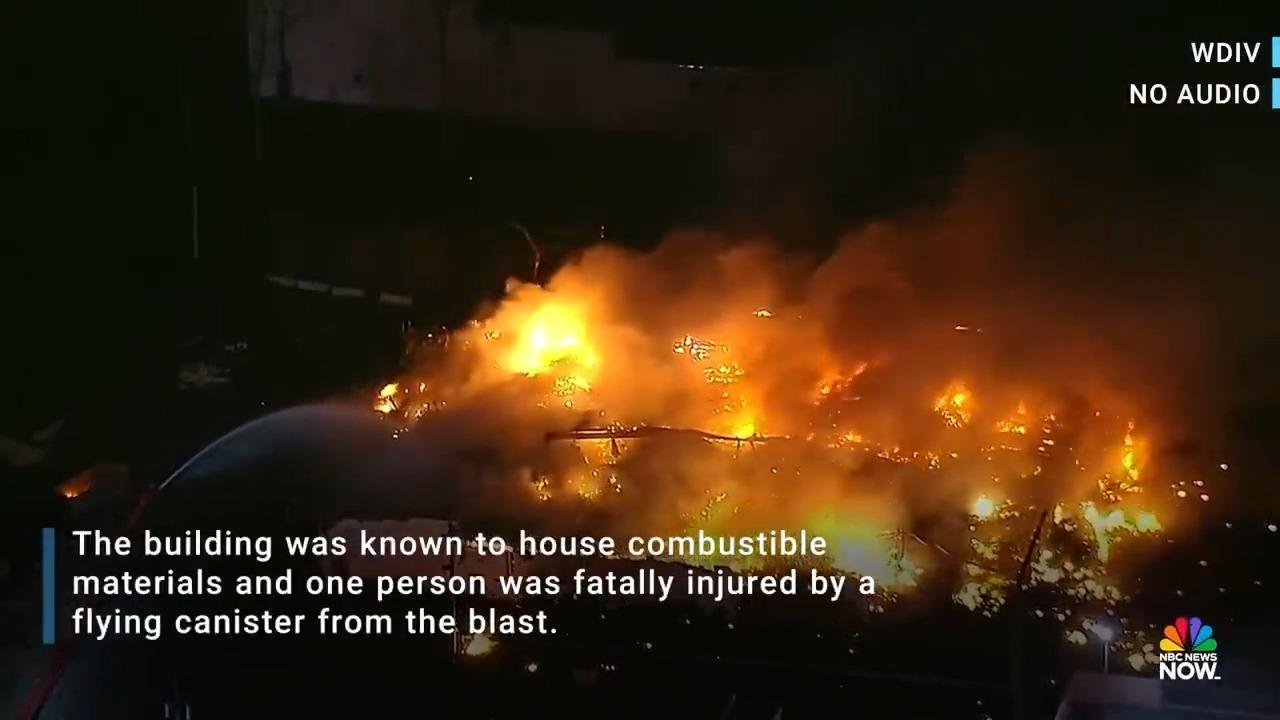fire: (831, 371, 1175, 540), (471, 274, 807, 432), (854, 547, 1116, 633), (586, 447, 821, 521)
